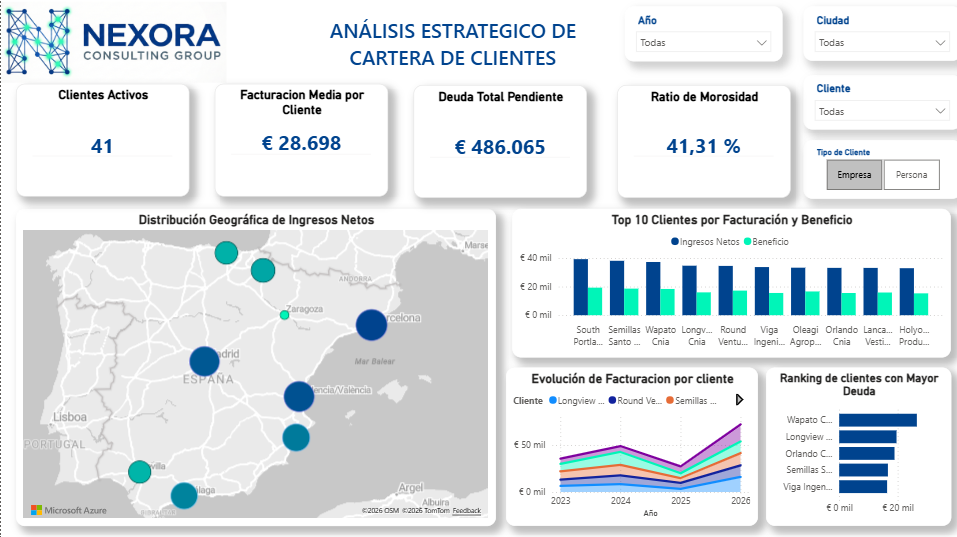

This screenshot's page, from the dashboard's own definition file:
{"tool":"powerbi","page":{"name":"Clientes","canvas":[1280,720],"ordinal":1},"visuals":[{"type":"azureMap","title":"Distribución Geográfica de Ingresos Netos","fields":{"Y":["Geografia.Latitud"],"X":["Geografia.Longitud"],"Size":["_Medidas.Ingresos Netos"]},"box":[20,278.3,640,423.3],"z":0},{"type":"image","box":[0,0,300.5,112.5],"z":1000},{"type":"textbox","box":[390,0,425,113.3],"z":2000},{"type":"slicer","fields":{"Values":["Clientes.Cliente"]},"box":[1070,100,210,72.9],"z":3000},{"type":"slicer","fields":{"Values":["Geografia.Ciudad"]},"box":[1070,8.6,210,72.9],"z":4000},{"type":"slicer","fields":{"Values":["Calendario.Año"]},"box":[831.7,8.3,210,73.3],"z":5000},{"type":"slicer","fields":{"Values":["Clientes.Tipo"]},"box":[1070,187.1,210,78.6],"z":6000},{"type":"cardVisual","title":"Clientes Activos","fields":{"Data":["_Medidas.Clientes Activos"]},"box":[20,111.4,231.4,150],"z":7000},{"type":"cardVisual","title":"Facturacion Media por Cliente","fields":{"Data":["_Medidas.Facturacion Media por Cliente"]},"box":[285.7,111.4,231.4,150],"z":8000},{"type":"cardVisual","title":"Deuda Total Pendiente","fields":{"Data":["_Medidas.Pendiente de Cobro"]},"box":[550,112.9,231.4,150],"z":9000},{"type":"cardVisual","title":"Ratio de Morosidad","fields":{"Data":["_Medidas.Ratio de Morosidad"]},"box":[821.4,112.9,231.4,150],"z":10000},{"type":"clusteredColumnChart","title":"Top 10 Clientes por Facturación y Beneficio","fields":{"Category":["Clientes.Cliente"],"Y":["_Medidas.Ingresos Netos","_Medidas.Beneficio"]},"box":[681.7,278.3,585,198.3],"z":11000},{"type":"stackedAreaChart","title":"Evolución de Facturacion por cliente","fields":{"Category":["Calendario.Date.Variación.Jerarquía de fechas.Año","Calendario.Date.Variación.Jerarquía de fechas.Trimestre","Calendario.Date.Variación.Jerarquía de fechas.Mes","Calendario.Date.Variación.Jerarquía de fechas.Día"],"Series":["Clientes.Cliente"],"Y":["_Medidas.Ingresos Netos"]},"box":[673.8,489.9,336.2,211.3],"z":12000},{"type":"clusteredBarChart","title":"Ranking de clientes con Mayor Deuda","fields":{"Category":["Clientes.Cliente"],"Y":["_Medidas.Pendiente de Cobro"]},"box":[1019.6,489.9,247,211.3],"z":13000}]}

Visuals, with their boxes in screenshot pixels (x1, y1, x2, y2), scaled from the page's 1280x720 canvas onto the 957x537 screenshot:
"Distribución Geográfica de Ingresos Netos" azureMap: (x1=15, y1=208, x2=493, y2=523)
image: (x1=0, y1=0, x2=225, y2=84)
textbox: (x1=292, y1=0, x2=609, y2=85)
slicer - Clientes.Cliente: (x1=800, y1=75, x2=956, y2=129)
slicer - Geografia.Ciudad: (x1=800, y1=6, x2=956, y2=61)
slicer - Calendario.Año: (x1=622, y1=6, x2=779, y2=61)
slicer - Clientes.Tipo: (x1=800, y1=140, x2=956, y2=198)
"Clientes Activos" cardVisual: (x1=15, y1=83, x2=188, y2=195)
"Facturacion Media por Cliente" cardVisual: (x1=214, y1=83, x2=387, y2=195)
"Deuda Total Pendiente" cardVisual: (x1=411, y1=84, x2=584, y2=196)
"Ratio de Morosidad" cardVisual: (x1=614, y1=84, x2=787, y2=196)
"Top 10 Clientes por Facturación y Beneficio" clusteredColumnChart: (x1=510, y1=208, x2=947, y2=355)
"Evolución de Facturacion por cliente" stackedAreaChart: (x1=504, y1=365, x2=755, y2=523)
"Ranking de clientes con Mayor Deuda" clusteredBarChart: (x1=762, y1=365, x2=947, y2=523)
